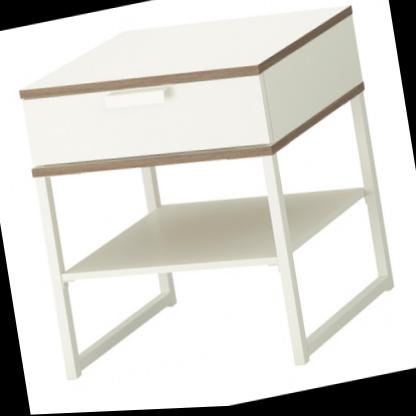Table: (6, 0, 411, 416)
